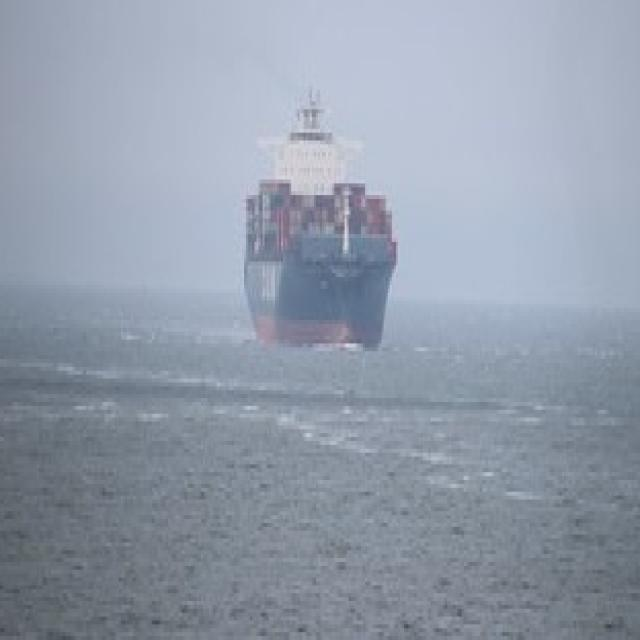cargoship: (246, 90, 407, 344)
